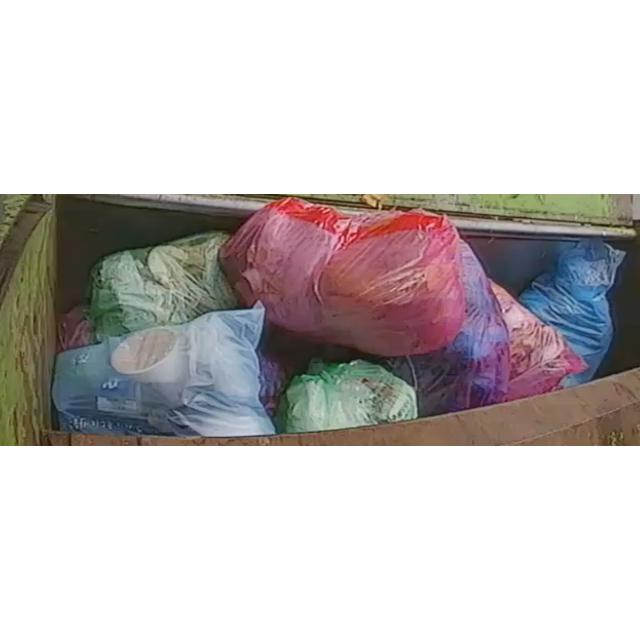general_trashbag: (90, 232, 239, 341), (282, 359, 418, 433)
other_trashbag: (220, 198, 466, 356), (52, 305, 275, 436), (391, 240, 510, 416), (519, 240, 625, 388)
